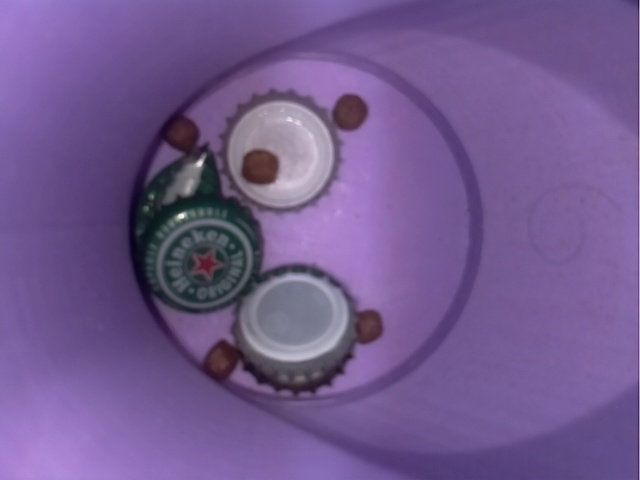capsule: (232, 254, 359, 401), (217, 81, 350, 220), (133, 189, 272, 318), (125, 135, 233, 251)
croquette: (196, 327, 242, 396), (322, 87, 377, 144), (155, 104, 208, 153), (350, 305, 396, 347), (238, 145, 278, 189)
